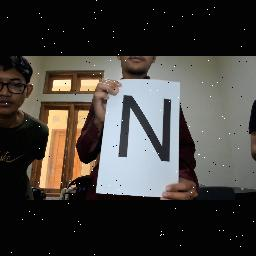n: (116, 92, 180, 168)
